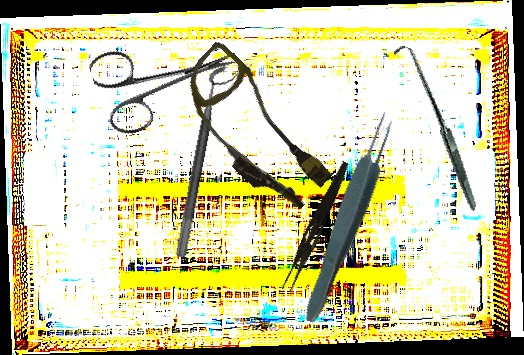Cannula: (160, 39, 348, 221)
Dressing Forceps: (281, 158, 351, 295)
Fixation Ring: (173, 62, 240, 262)
Hook Surgical: (355, 43, 516, 212)
Iris Scissors: (86, 14, 249, 141)
Tissue Forceps: (296, 108, 404, 328)
